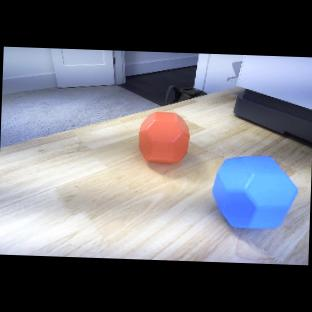V5_BLUE: (210, 154, 299, 236)
V5_RED: (139, 111, 191, 167)
